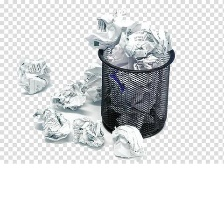book: (89, 10, 176, 70), (108, 63, 168, 136), (75, 54, 109, 104), (107, 122, 149, 161), (15, 55, 52, 98), (30, 104, 71, 142), (47, 77, 89, 114), (70, 111, 104, 148)
